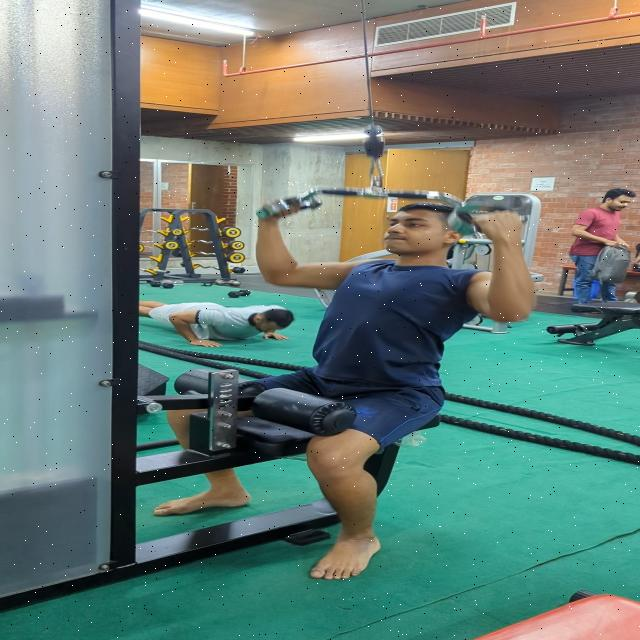Normal_LatPulldown: (157, 186, 557, 592)
